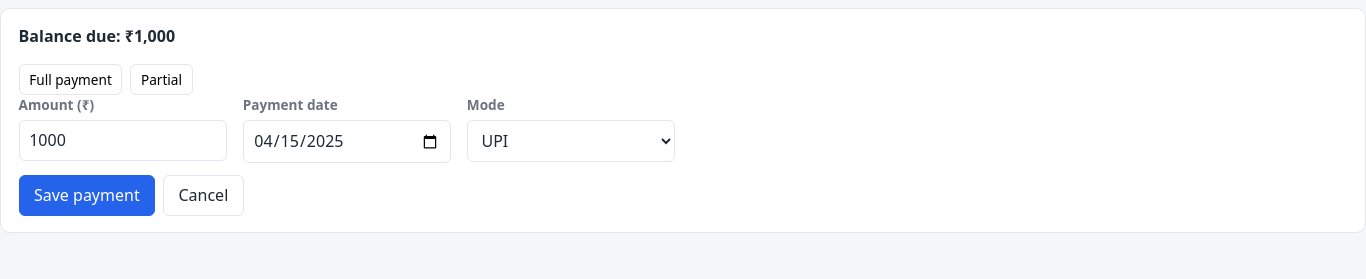
Scenario: RecordPaymentForm › shows an alert and does not save when the amount exceeds the balance
The width and height of the screenshot is (1366, 279).
Replace the text in the number field labelled "Amount (₹)" with "1500". click: point(123, 141)
box: [19,120,227,161]
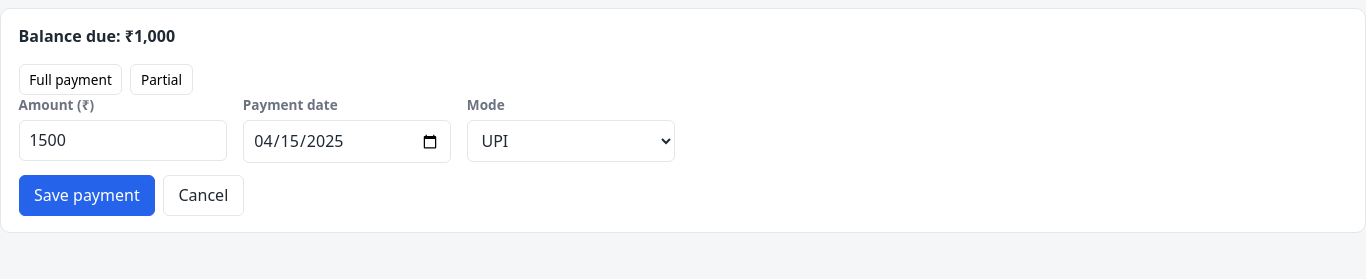
Click the button "Save payment". click: point(87, 196)
box: [19,175,155,216]
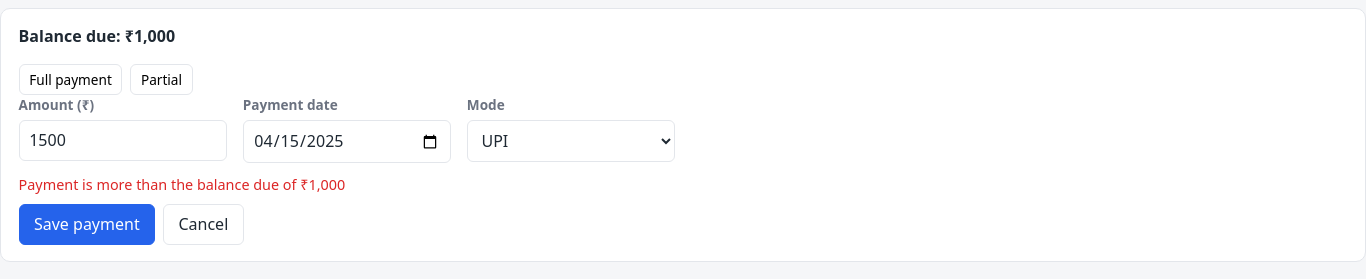
Check: the message shows "more than the balance", box [19,175,345,194]
